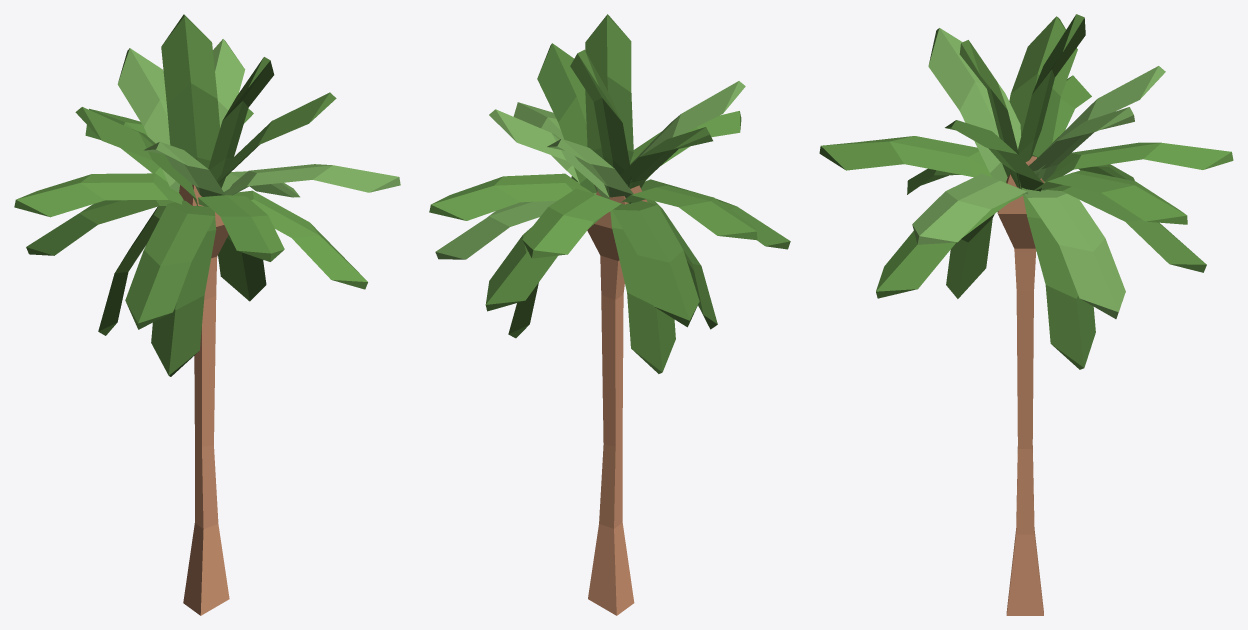
The model's file is palm4.fbx.
3 views of the same model, side by side, from view 1: azimuth 30°, elevation 25°; view 2: azimuth 150°, elevation 25°; view 3: azimuth 270°, elevation 25° (orthographic). The views are drawn at different scales.
Parts seen in each view (by area): view 1: palm4; view 2: palm4; view 3: palm4.
Part boxes in pixels (box(x1,y1,x2,y2)): palm4: box(14, 14, 400, 615); palm4: box(429, 14, 790, 615); palm4: box(819, 14, 1233, 615).
Bounding box in the file's own units: 2.4 × 4.19 × 2.59.
